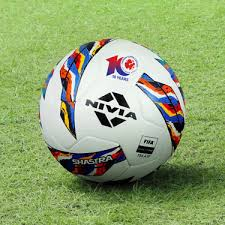football ball: (36, 36, 189, 188)
